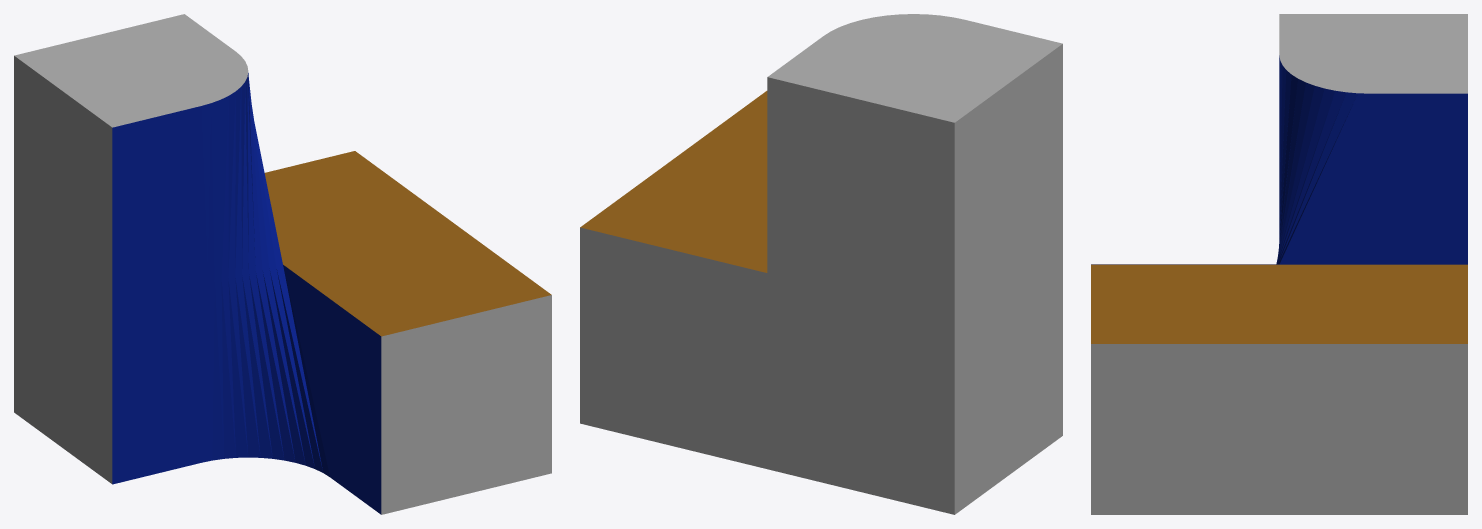
File: case_23.fbx
3 views of the same model, side by side, from view 1: azimuth 30°, elevation 25°; view 2: azimuth 150°, elevation 25°; view 3: azimuth 270°, elevation 25° (orthographic). The views are drawn at different scales.
Parts seen in each view (by area): view 1: case_23; view 2: case_23; view 3: case_23.
Part boxes in pixels (box(x1,y1,x2,y2)): case_23: box(14, 14, 551, 514); case_23: box(580, 14, 1062, 514); case_23: box(1091, 14, 1467, 514).
Size of the model in its own units: 1 by 1 by 1.
